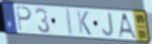3: (35, 6, 51, 35)
A: (117, 12, 138, 40)
I: (66, 7, 74, 37)
J: (101, 12, 115, 38)
K: (76, 9, 93, 37)
P: (15, 5, 33, 32)
